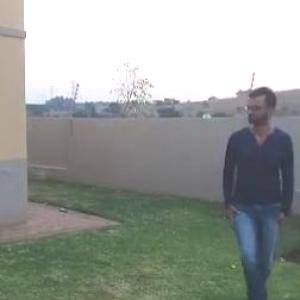follow: (215, 81, 281, 299)
